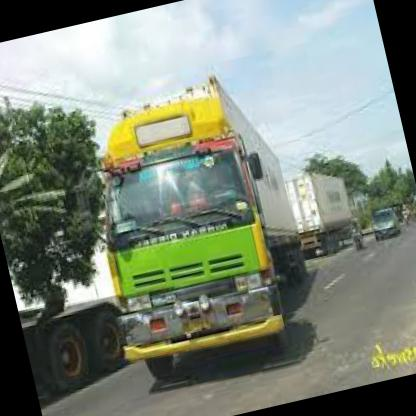truck: (79, 124, 301, 397)
